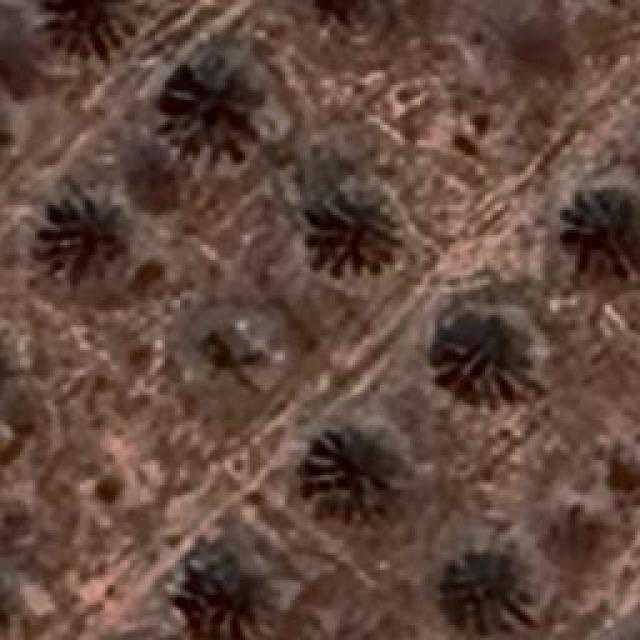PalmTree: (88, 16, 352, 70), (48, 190, 160, 288), (305, 428, 405, 522), (440, 540, 535, 635), (432, 310, 532, 400), (165, 60, 258, 148), (168, 558, 262, 638), (304, 195, 396, 275), (568, 182, 638, 280), (0, 8, 44, 96)
